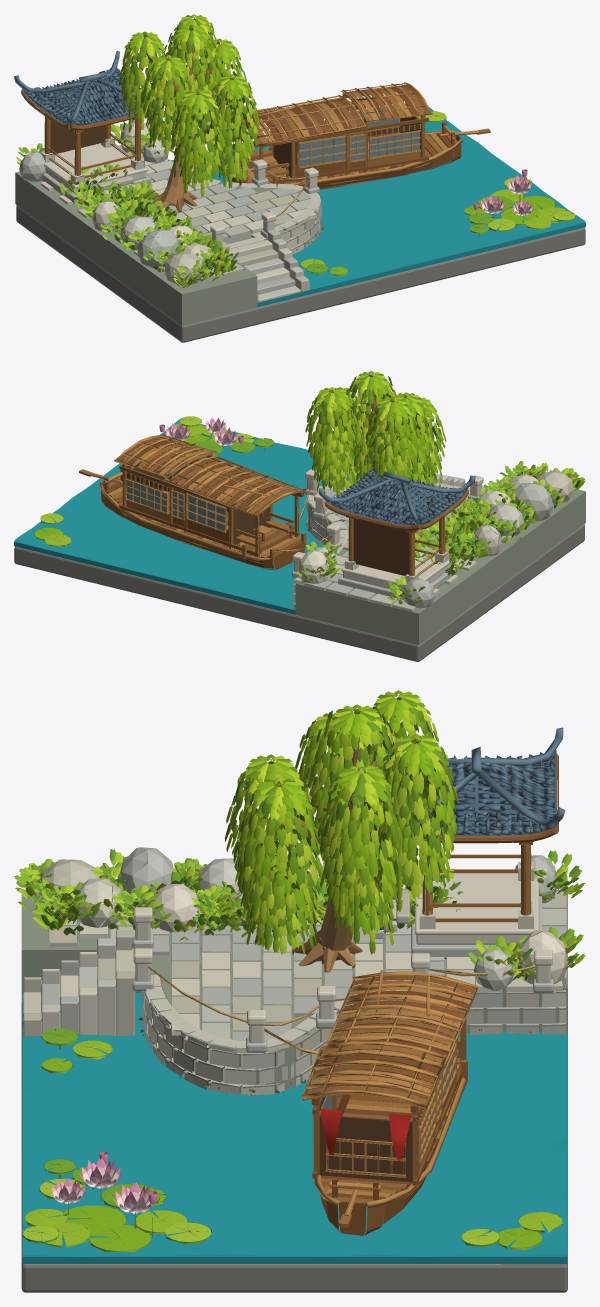
Rendered from redboat-scene.glb.
3 views of the same model, one above another, from view 1: azimuth 30°, elevation 25°; view 2: azimuth 150°, elevation 25°; view 3: azimuth 270°, elevation 25° (orthographic). The views are drawn at different scales.
Visible parts, largest first — view 1: redboat-scene-complete-environment; view 2: redboat-scene-complete-environment; view 3: redboat-scene-complete-environment.
Boxes of the visible parts, x1=… form: redboat-scene-complete-environment: x1=14, y1=14, x2=585, y2=342; redboat-scene-complete-environment: x1=14, y1=371, x2=585, y2=661; redboat-scene-complete-environment: x1=14, y1=690, x2=585, y2=1292.
Bounding box in the file's own units: 0.9995 × 0.4924 × 0.7303.
